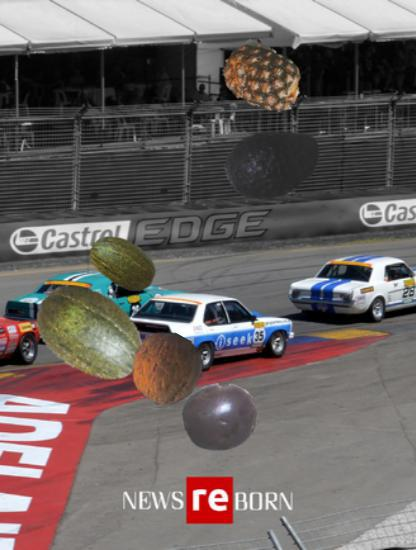Avocado: (226, 116, 326, 216)
Melon: (32, 271, 151, 390), (85, 230, 157, 302)
Passion: (183, 379, 260, 456)
Pineapple: (221, 35, 304, 118)
Walnut: (129, 332, 203, 406)
